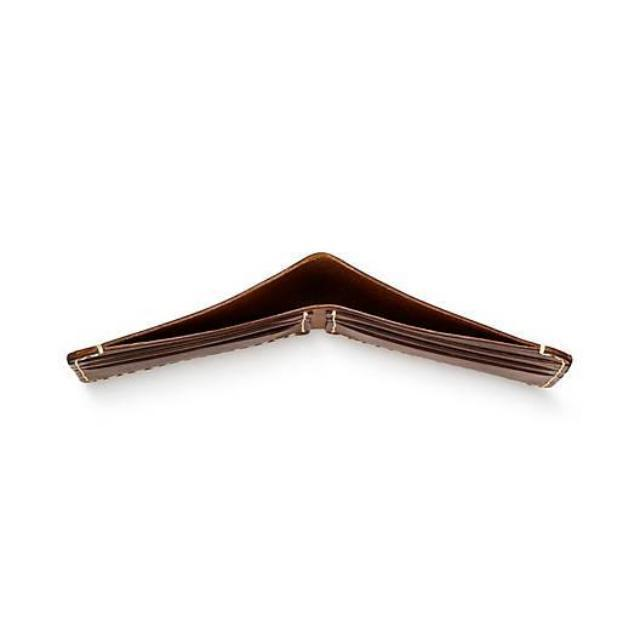wallet: (64, 248, 576, 394)
